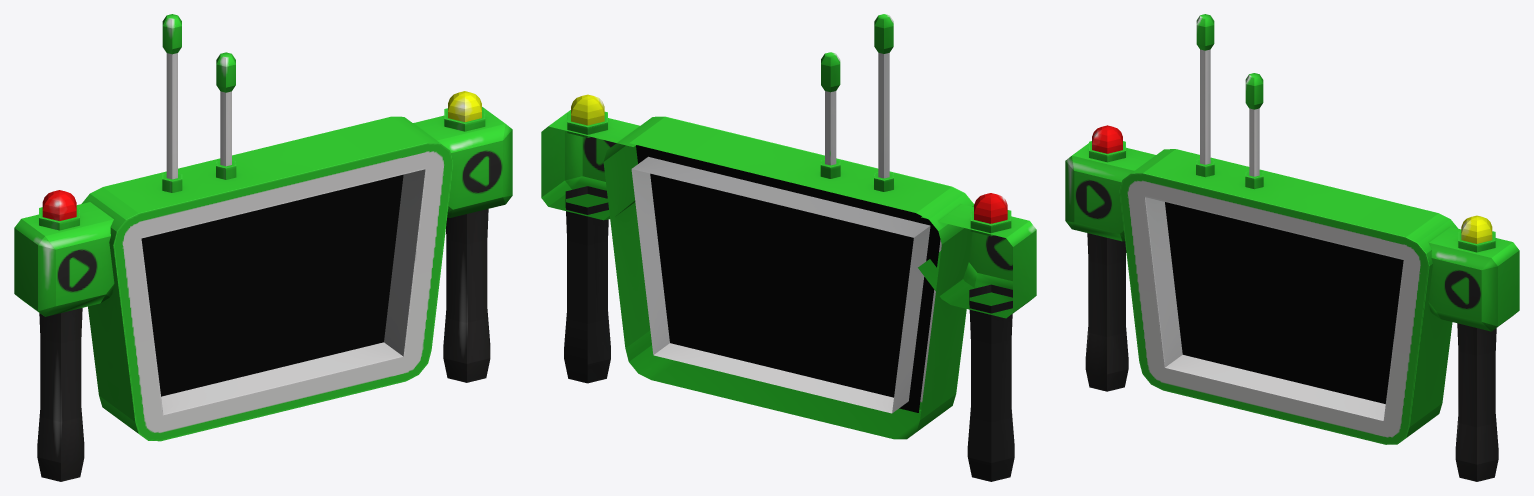
Rendered from scanner_03.fbx.
3 renders of one model, left to right at view 1: azimuth 30°, elevation 25°; view 2: azimuth 150°, elevation 25°; view 3: azimuth 330°, elevation 25°, orthographic. The views are drawn at different scales.
Parts seen in each view (by area): view 1: scanner_03, screen_03; view 2: scanner_03, screen_03; view 3: scanner_03, screen_03.
Boxes of the visible parts, <box> form: scanner_03: <box>14,14,512,481</box>; screen_03: <box>141,174,403,396</box>; scanner_03: <box>541,14,1036,481</box>; screen_03: <box>636,145,940,412</box>; scanner_03: <box>1065,14,1519,481</box>; screen_03: <box>1165,202,1403,403</box>.
Size of the model in its own units: 27.52 by 23.84 by 3.66.
